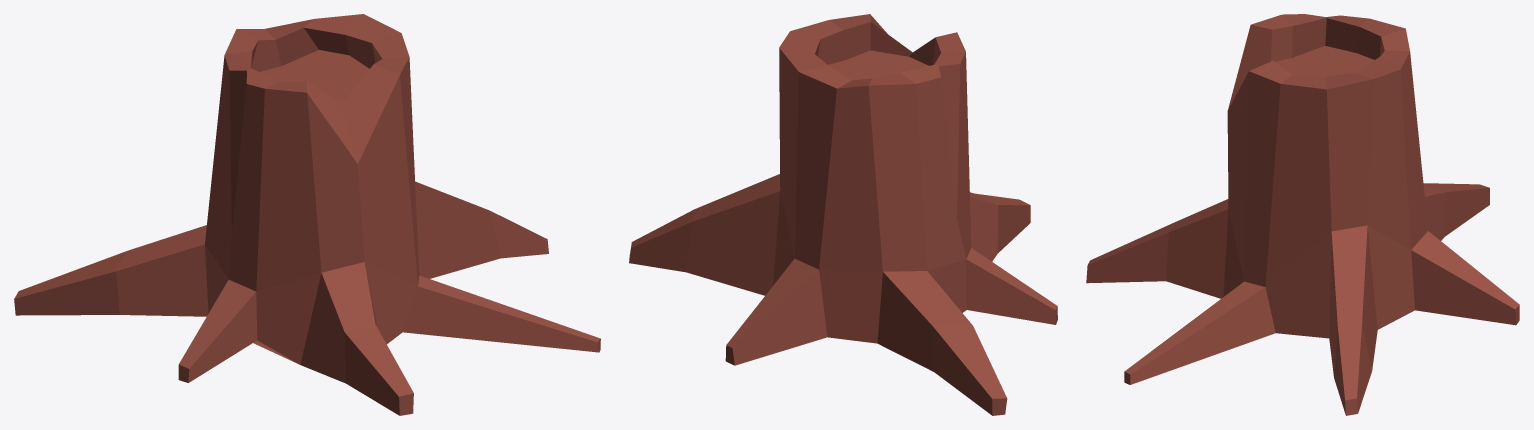
3 renders of one model, left to right at view 1: azimuth 30°, elevation 25°; view 2: azimuth 150°, elevation 25°; view 3: azimuth 270°, elevation 25°, orthographic. The views are drawn at different scales.
Visible parts, largest first — view 1: Root; view 2: Root; view 3: Root.
Part boxes in pixels (left/top/right/bottom): Root: left=14, top=14, right=600, bottom=415; Root: left=629, top=14, right=1057, bottom=415; Root: left=1086, top=14, right=1519, bottom=415.
Size of the model in its own units: 1.52 by 0.8508 by 1.3.
